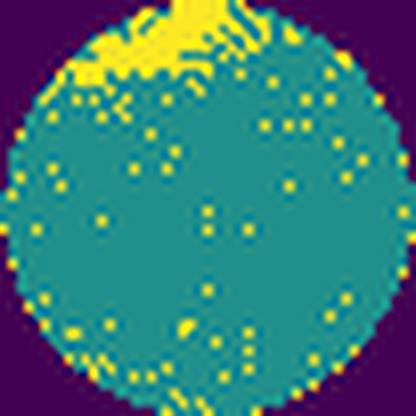Edge-Loc: (60, 0, 276, 89)
